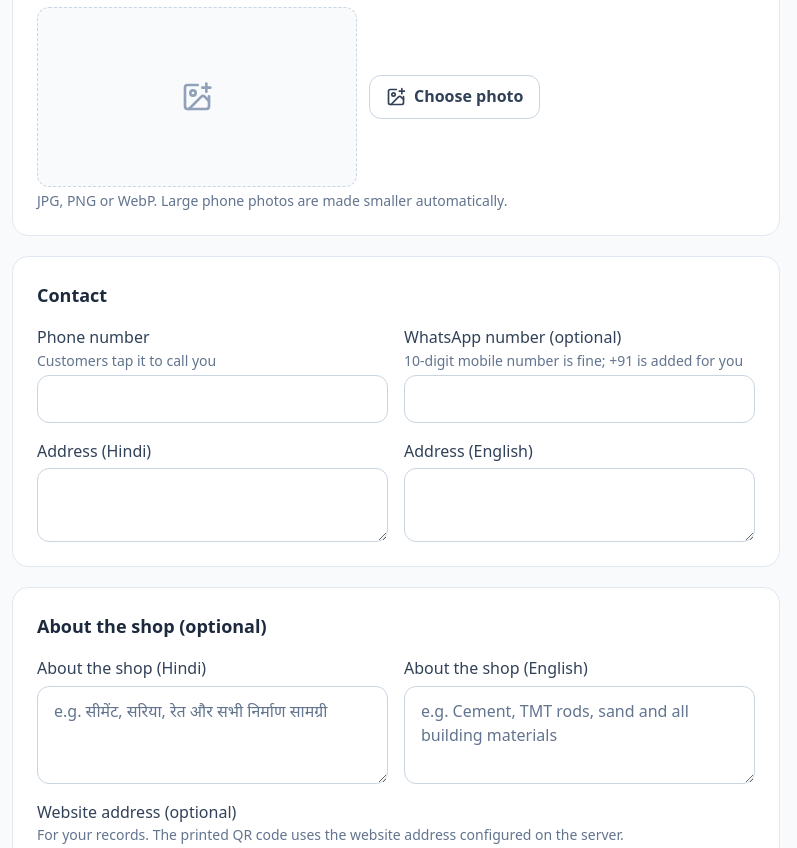
Test case: Shop Settings page › checks phone numbers and the website address before saving
(page scrolled)
Type "call me" into the field labelled "Phone number".
click(212, 399); type("call me")  # box [37,375,388,423]
(page scrolled)
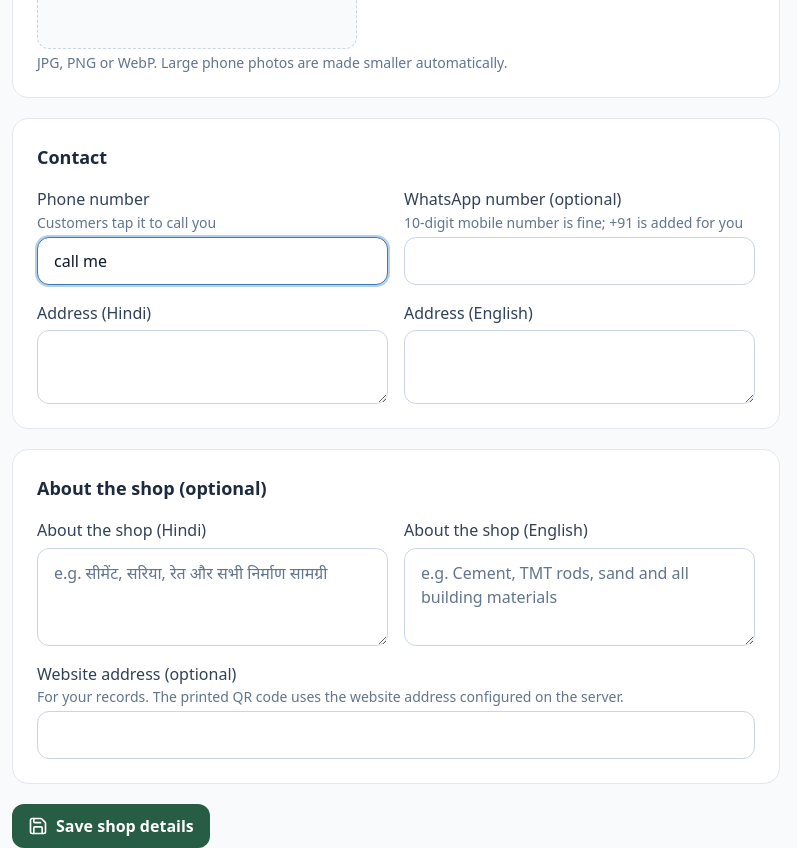
Type "yourshop.com" into the field labelled "Website address (optional)".
click(396, 735); type("yourshop.com")  # box [37,711,755,759]
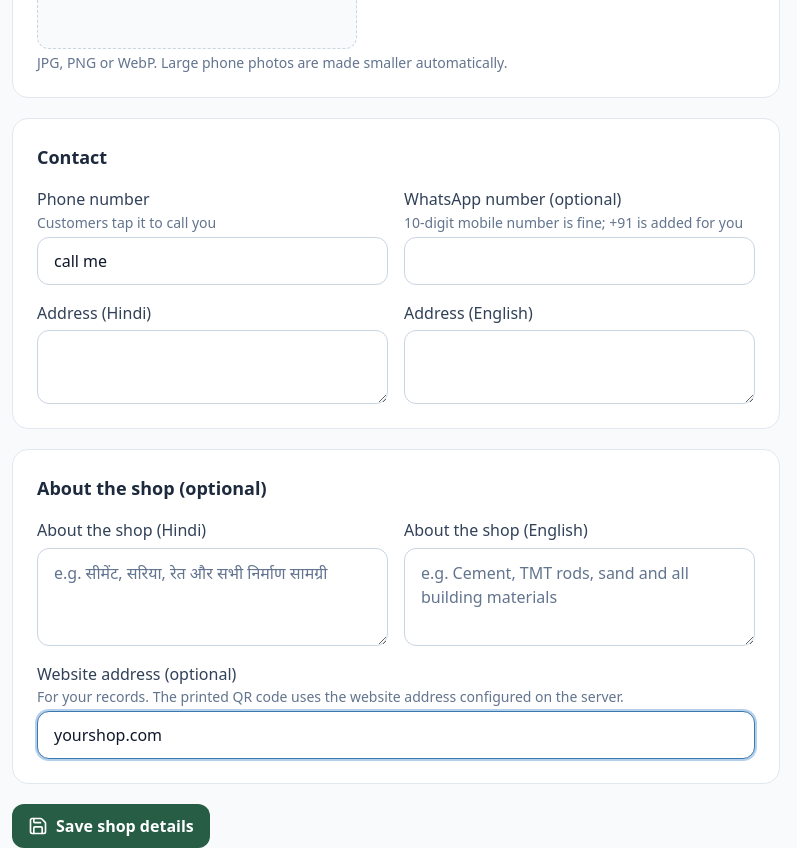
Click the button "Save shop details".
click(111, 826)  # box [12,804,210,847]
(page scrolled)
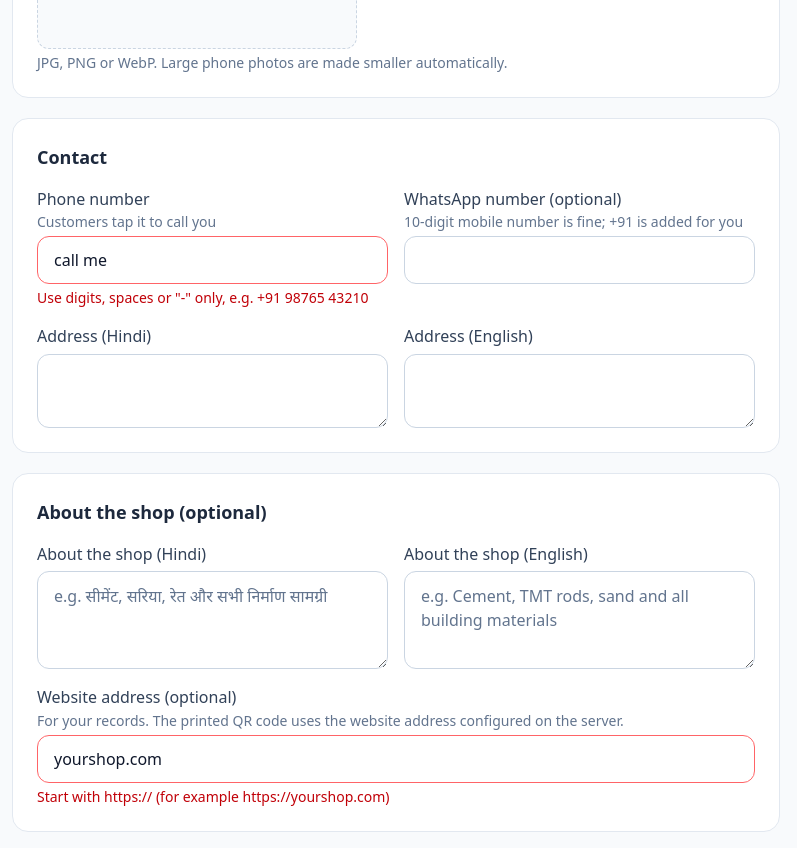
expect the text "Start with https:// (for example https://yourshop.com)" is shown: met, box [37,787,390,806]
